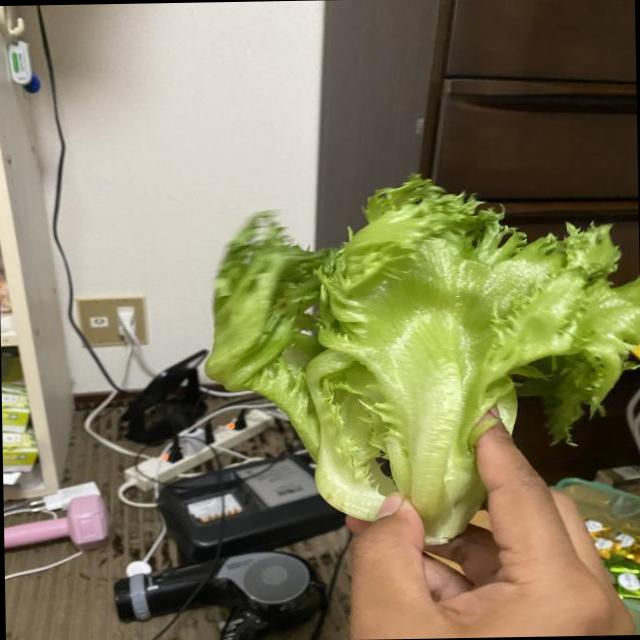Lettuce-Ready-to-Harvest: (206, 175, 640, 543)
